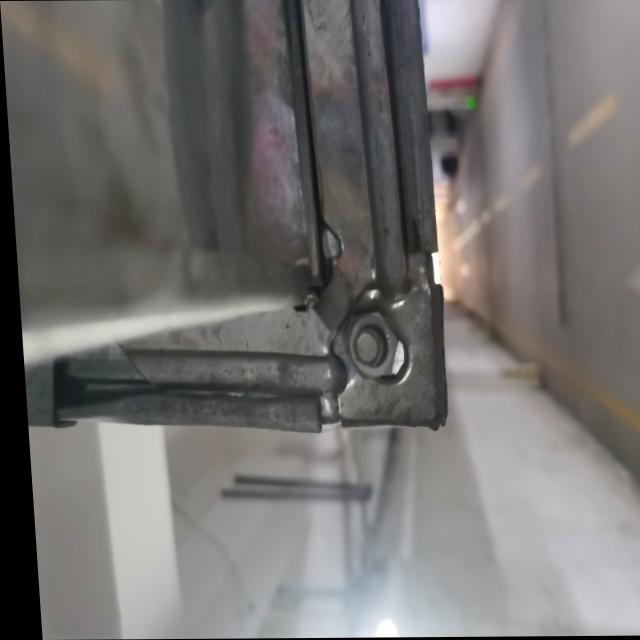Regular bolt: (340, 311, 400, 382)
